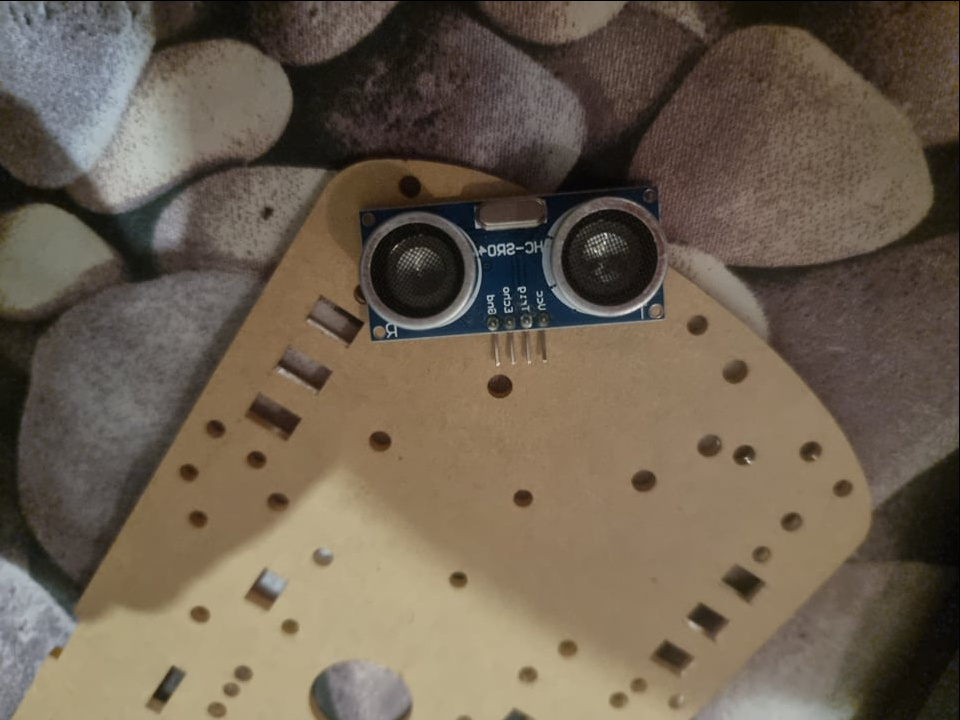SENSOR: (359, 182, 667, 341)
